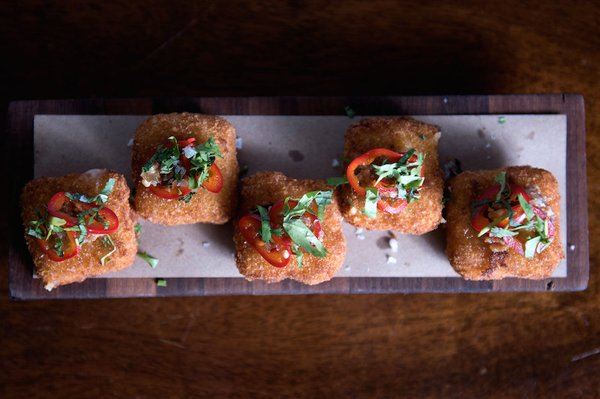soup: (18, 170, 140, 291), (443, 166, 566, 281), (232, 169, 348, 286), (338, 115, 445, 237), (128, 112, 240, 226)
